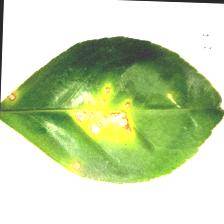canker: (3, 66, 150, 178)
